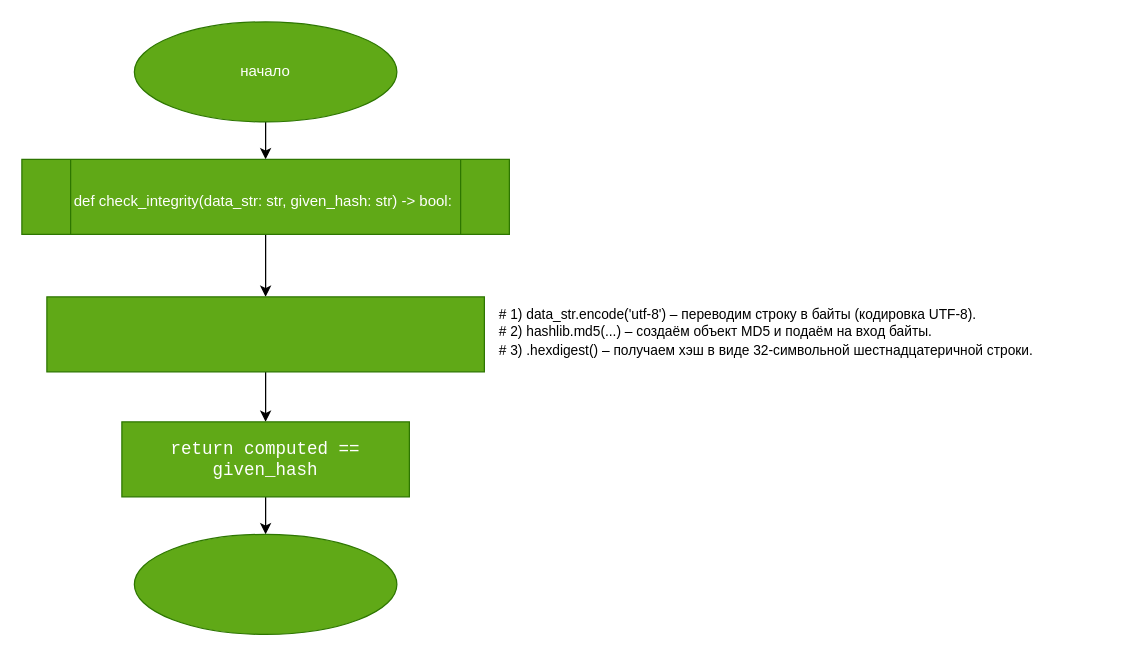
Image size: 1144x656. Some labels were removed from this diagram. The shapes that lost their labels are listed below. From the top down, each one's centre as x and y in pixels, then its label:
the point at 265,334: computed = hashlib.md5(data_str.encode('utf-8')).hexdigest()
the point at 265,583: конец
